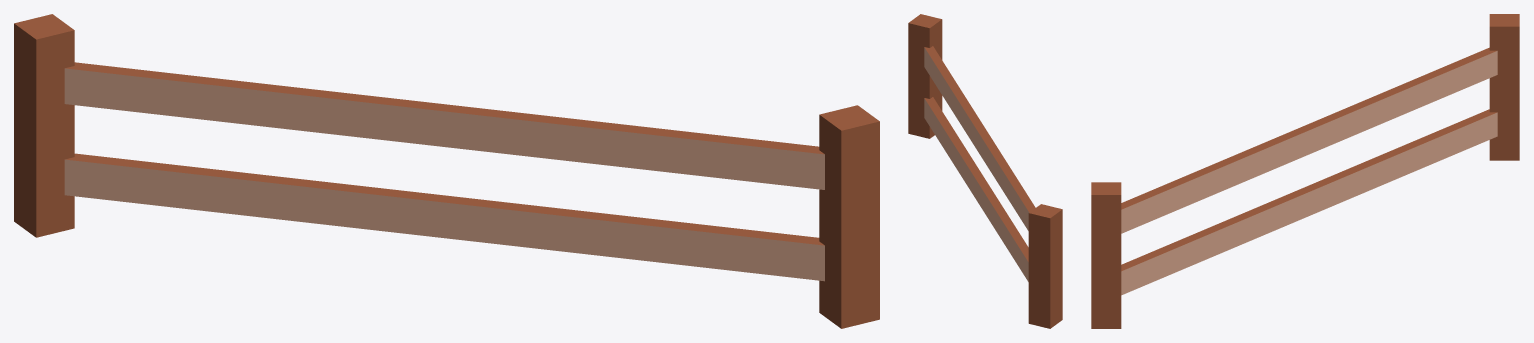
The model's file is fence_simpleDiagonal.glb.
The picture shows the model from 3 angles, left to right: view 1: azimuth 30°, elevation 25°; view 2: azimuth 150°, elevation 25°; view 3: azimuth 270°, elevation 25°; orthographic projection. The views are drawn at different scales.
Visible parts, largest first — view 1: fence_simpleDiagonal; view 2: fence_simpleDiagonal; view 3: fence_simpleDiagonal.
Boxes of the visible parts, box(x1,y1,x2,y2) form: fence_simpleDiagonal: box(14, 14, 879, 328); fence_simpleDiagonal: box(908, 14, 1062, 328); fence_simpleDiagonal: box(1091, 14, 1519, 328).
Size of the model in its own units: 1 by 0.345 by 1.
